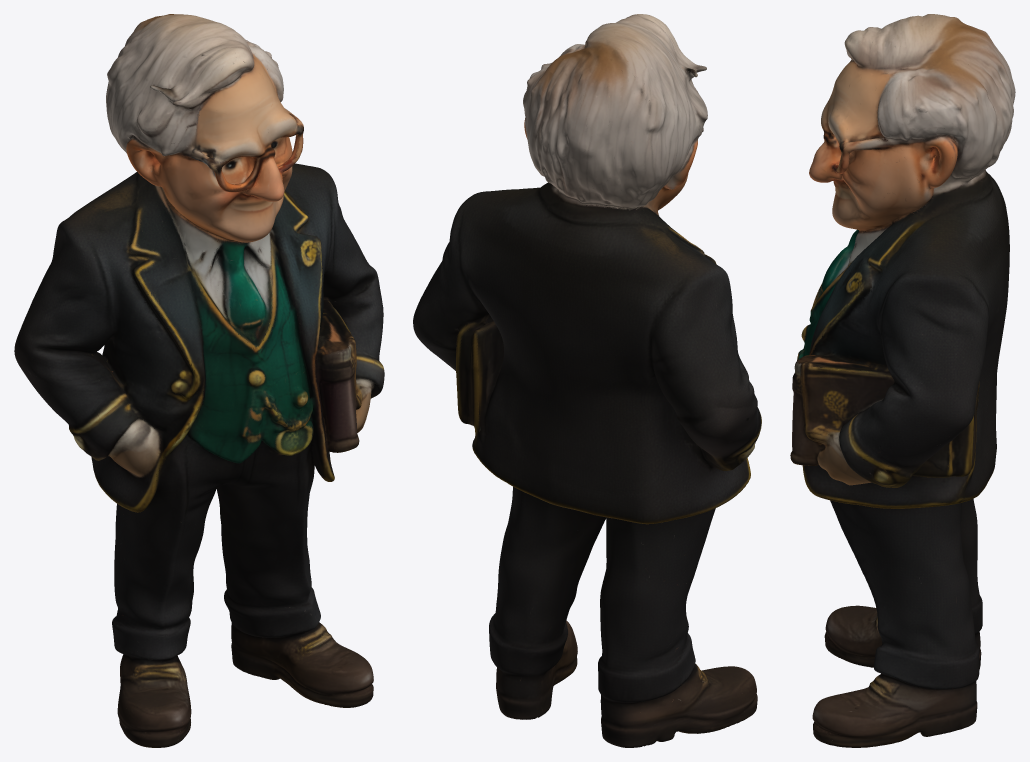
File: oracle-of-value.glb
3 views of the same model, side by side, from view 1: azimuth 30°, elevation 25°; view 2: azimuth 150°, elevation 25°; view 3: azimuth 270°, elevation 25° (orthographic). The views are drawn at different scales.
Parts seen in each view (by area): view 1: geometry_0; view 2: geometry_0; view 3: geometry_0.
Boxes of the visible parts, left/top/right/bottom form: geometry_0: left=14, top=14, right=384, bottom=747; geometry_0: left=413, top=14, right=761, bottom=747; geometry_0: left=790, top=14, right=1015, bottom=747.
Bounding box in the file's own units: 0.5149 × 1 × 0.308.
Materials: 1 (1 with a texture image).
